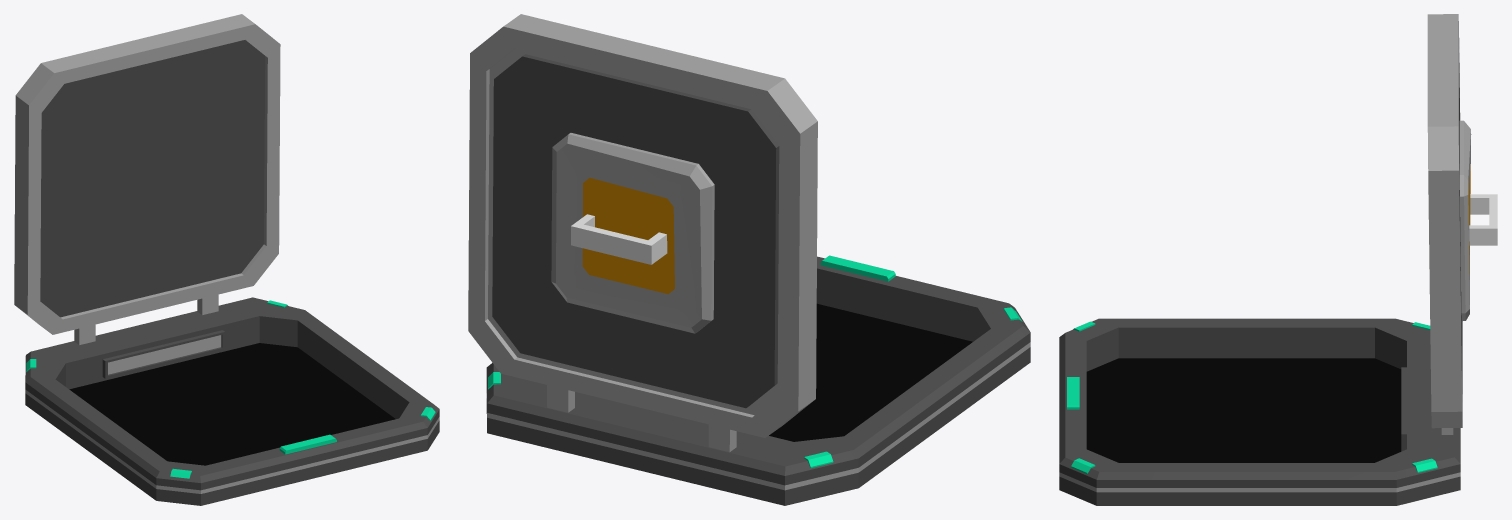
File: Trappe.fbx
The picture shows the model from 3 angles, left to right: view 1: azimuth 30°, elevation 25°; view 2: azimuth 150°, elevation 25°; view 3: azimuth 270°, elevation 25°; orthographic projection. The views are drawn at different scales.
Parts seen in each view (by area): view 1: Couvercle, Bordure; view 2: Couvercle, Bordure; view 3: Bordure, Couvercle.
Boxes of the visible parts, box(x1,y1,x2,y2) form: Couvercle: box(14, 14, 280, 344); Bordure: box(25, 297, 439, 505); Couvercle: box(468, 14, 817, 452); Bordure: box(486, 255, 1030, 505); Bordure: box(1059, 318, 1460, 505); Couvercle: box(1427, 14, 1497, 434).
Size of the model in its own units: 0.8919 by 0.9579 by 1.04.
